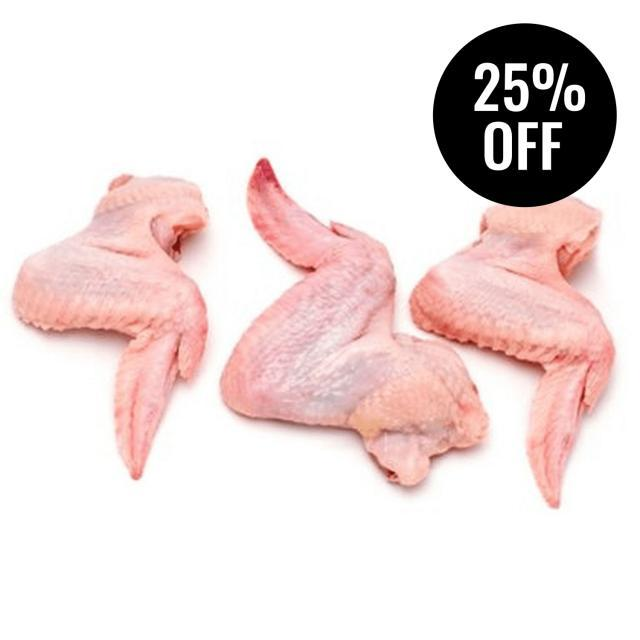wing: (238, 154, 471, 513), (3, 171, 216, 471), (437, 181, 618, 494)
